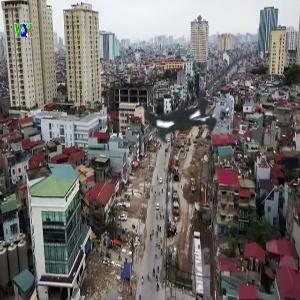drone: (79, 14, 291, 226)
